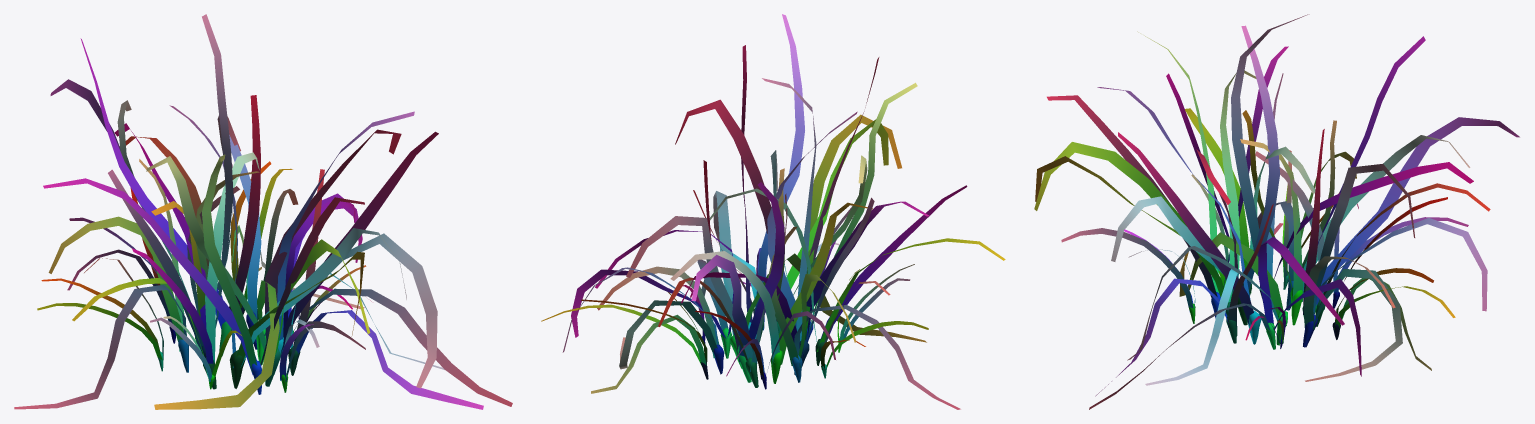
File: Ribbon_Grass_tbdpec3r_Mid_tbdpec3r_VarB_LOD0.fbx
3 views of the same model, side by side, from view 1: azimuth 30°, elevation 25°; view 2: azimuth 150°, elevation 25°; view 3: azimuth 270°, elevation 25° (orthographic). The views are drawn at different scales.
Visible parts, largest first — view 1: _4a46_VarB_LOD1; view 2: _4a46_VarB_LOD1; view 3: _4a46_VarB_LOD1.
Part boxes in pixels (box(x1,y1,x2,y2)): _4a46_VarB_LOD1: box(14, 14, 512, 409); _4a46_VarB_LOD1: box(541, 14, 1005, 409); _4a46_VarB_LOD1: box(1034, 14, 1519, 409).
Bounding box in the file's own units: 53.05 × 44.95 × 62.89.
